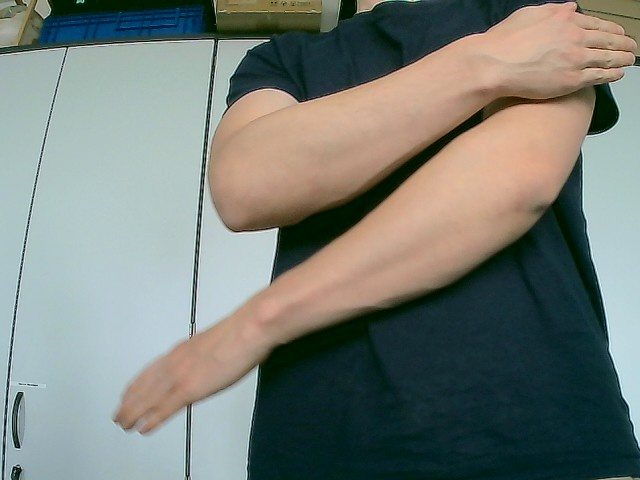no_gesture: (103, 301, 280, 445), (481, 1, 638, 102)
